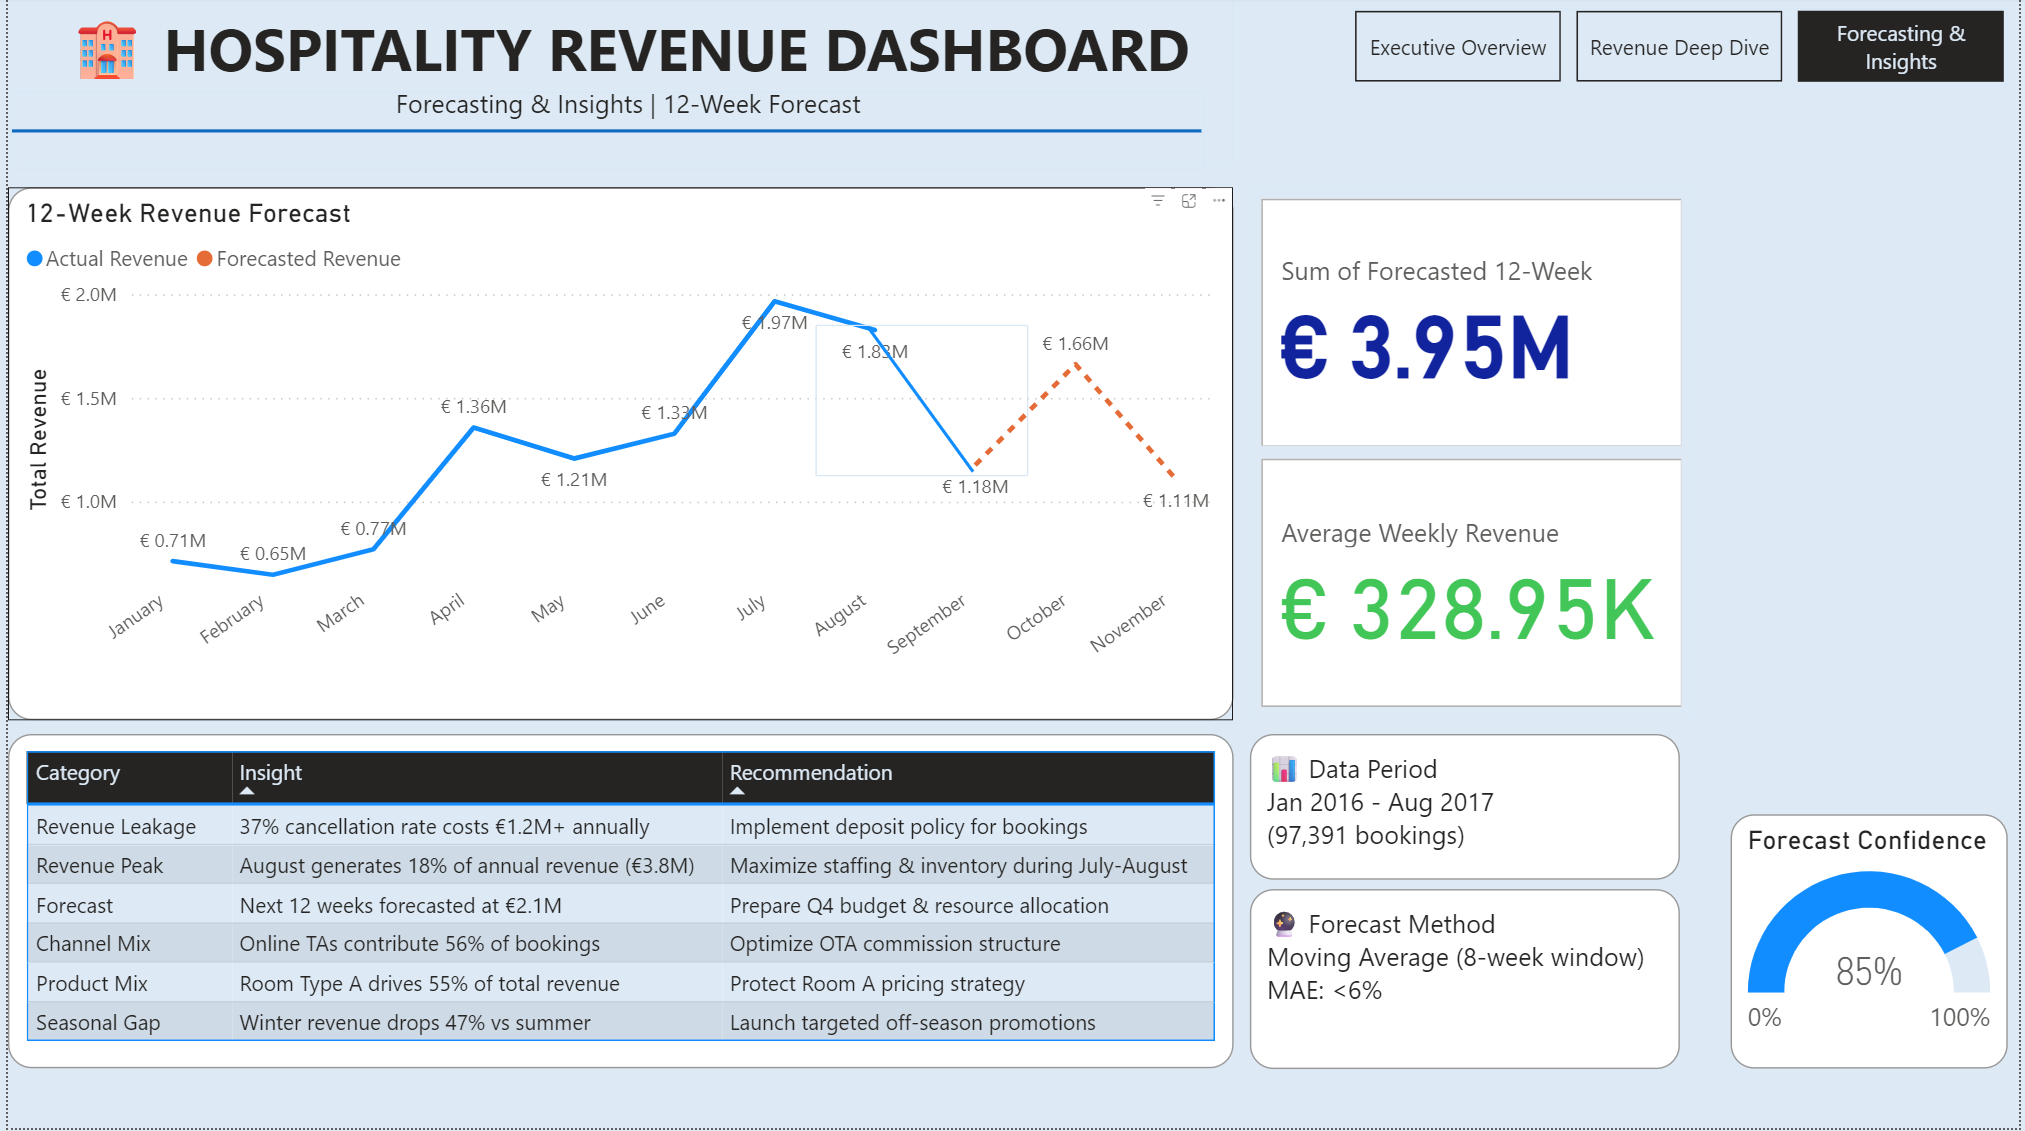

The page's visual inventory and layout, read from the dashboard file:
{"tool":"powerbi","page":{"name":"Forecasting & Insights","canvas":[1280,720],"ordinal":2},"visuals":[{"type":"textbox","box":[9.8,0,770.1,105],"z":0},{"type":"lineChart","title":"12-Week Revenue Forecast","fields":{"Y":["_measures.Actual Revenue Complete Months","_measures.Forecast Sep-Nov 2017"],"Category":["powerbi_forecast.week_start_date.Variation.Date Hierarchy.Month"]},"box":[0,121,779.9,339.5],"z":1000},{"type":"cardVisual","fields":{"Data":["Sum(powerbi_forecast.Forecasted 12-Week)","powerbi_forecast.Average Weekly Revenue"]},"box":[790.4,121.1,282.8,339.5],"z":2000},{"type":"tableEx","fields":{"Values":["Key Insights.Category","Key Insights.Insight","Key Insights.Recommendation"]},"box":[0,469.1,779.9,212.8],"z":3000},{"type":"textbox","box":[790.4,469,273.7,93.1],"z":4000},{"type":"textbox","box":[790.4,567.7,273.7,114.1],"z":5000},{"type":"shape","box":[513.8,208.6,135.1,96.6],"z":6000},{"type":"pageNavigator","box":[855.5,7,417.2,49.7],"z":7000},{"type":"shape","box":[0.7,60.2,761,50.4],"z":8000},{"type":"gauge","fields":{"Y":["_measures.Forecast Confidence %"]},"box":[1096.3,520.1,176.4,161.7],"z":9000}]}

Visuals, with their boxes in screenshot pixels (x1, y1, x2, y2), scaled from the page's 1280x720 canvas onto the 2025x1131 screenshot:
textbox: x1=16 y1=0 x2=1234 y2=165
"12-Week Revenue Forecast" lineChart: x1=0 y1=190 x2=1234 y2=723
cardVisual - Sum(powerbi_forecast.Forecasted 12-Week) x powerbi_forecast.Average Weekly Revenue: x1=1250 y1=190 x2=1698 y2=724
tableEx - Key Insights.Category x Key Insights.Insight: x1=0 y1=737 x2=1234 y2=1071
textbox: x1=1250 y1=737 x2=1683 y2=883
textbox: x1=1250 y1=892 x2=1683 y2=1071
shape: x1=813 y1=328 x2=1027 y2=479
pageNavigator: x1=1353 y1=11 x2=2013 y2=89
shape: x1=1 y1=95 x2=1205 y2=174
gauge - _measures.Forecast Confidence %: x1=1734 y1=817 x2=2013 y2=1071
